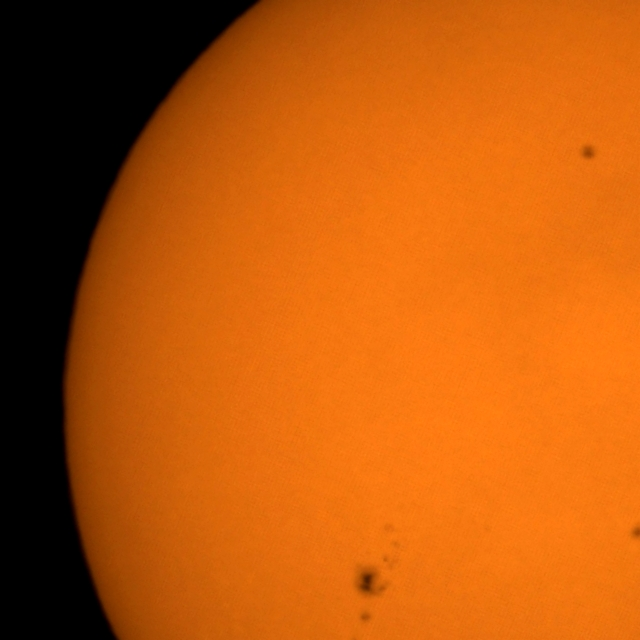sunspot: (354, 568, 388, 600), (577, 142, 598, 163), (358, 610, 374, 626), (630, 523, 640, 543)
